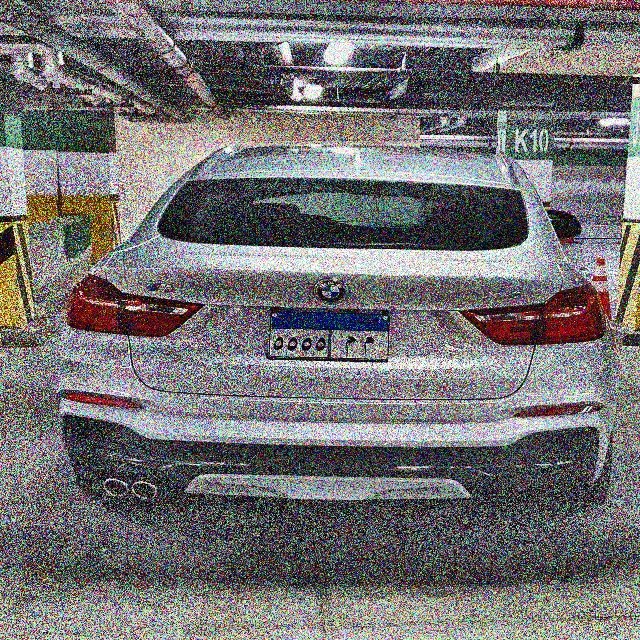License Plate: (267, 310, 392, 362)
